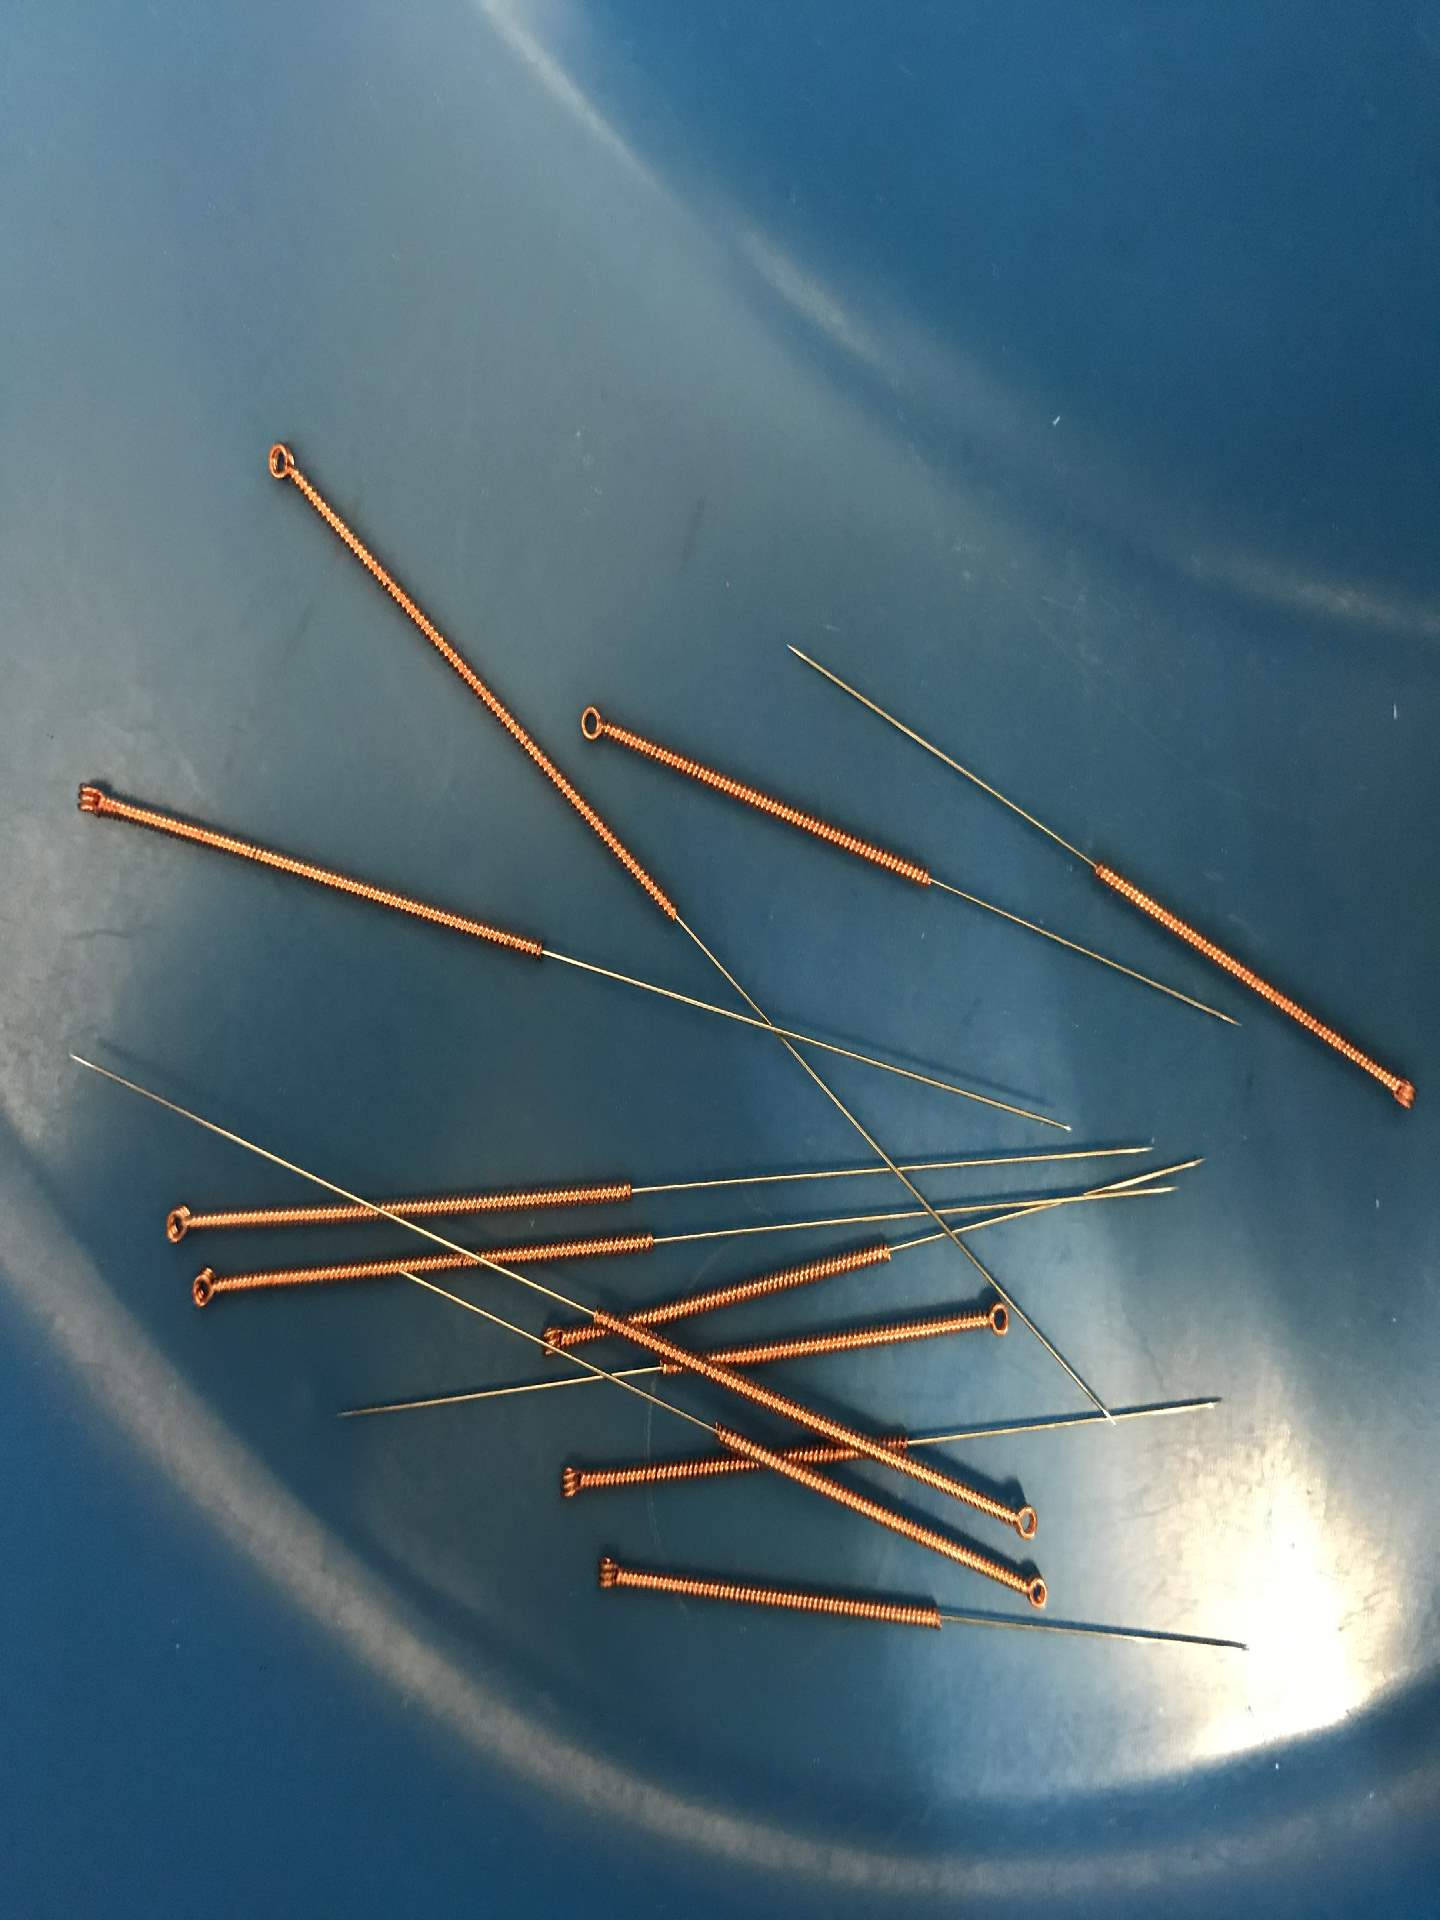needle: (253, 429, 310, 493), (65, 770, 119, 831), (569, 694, 619, 756), (546, 1451, 597, 1510), (182, 1259, 230, 1318), (585, 1547, 634, 1603), (153, 1196, 200, 1253), (1001, 1495, 1048, 1550), (1376, 1063, 1423, 1117), (529, 1315, 576, 1365), (1012, 1566, 1056, 1616), (976, 1293, 1016, 1342)
